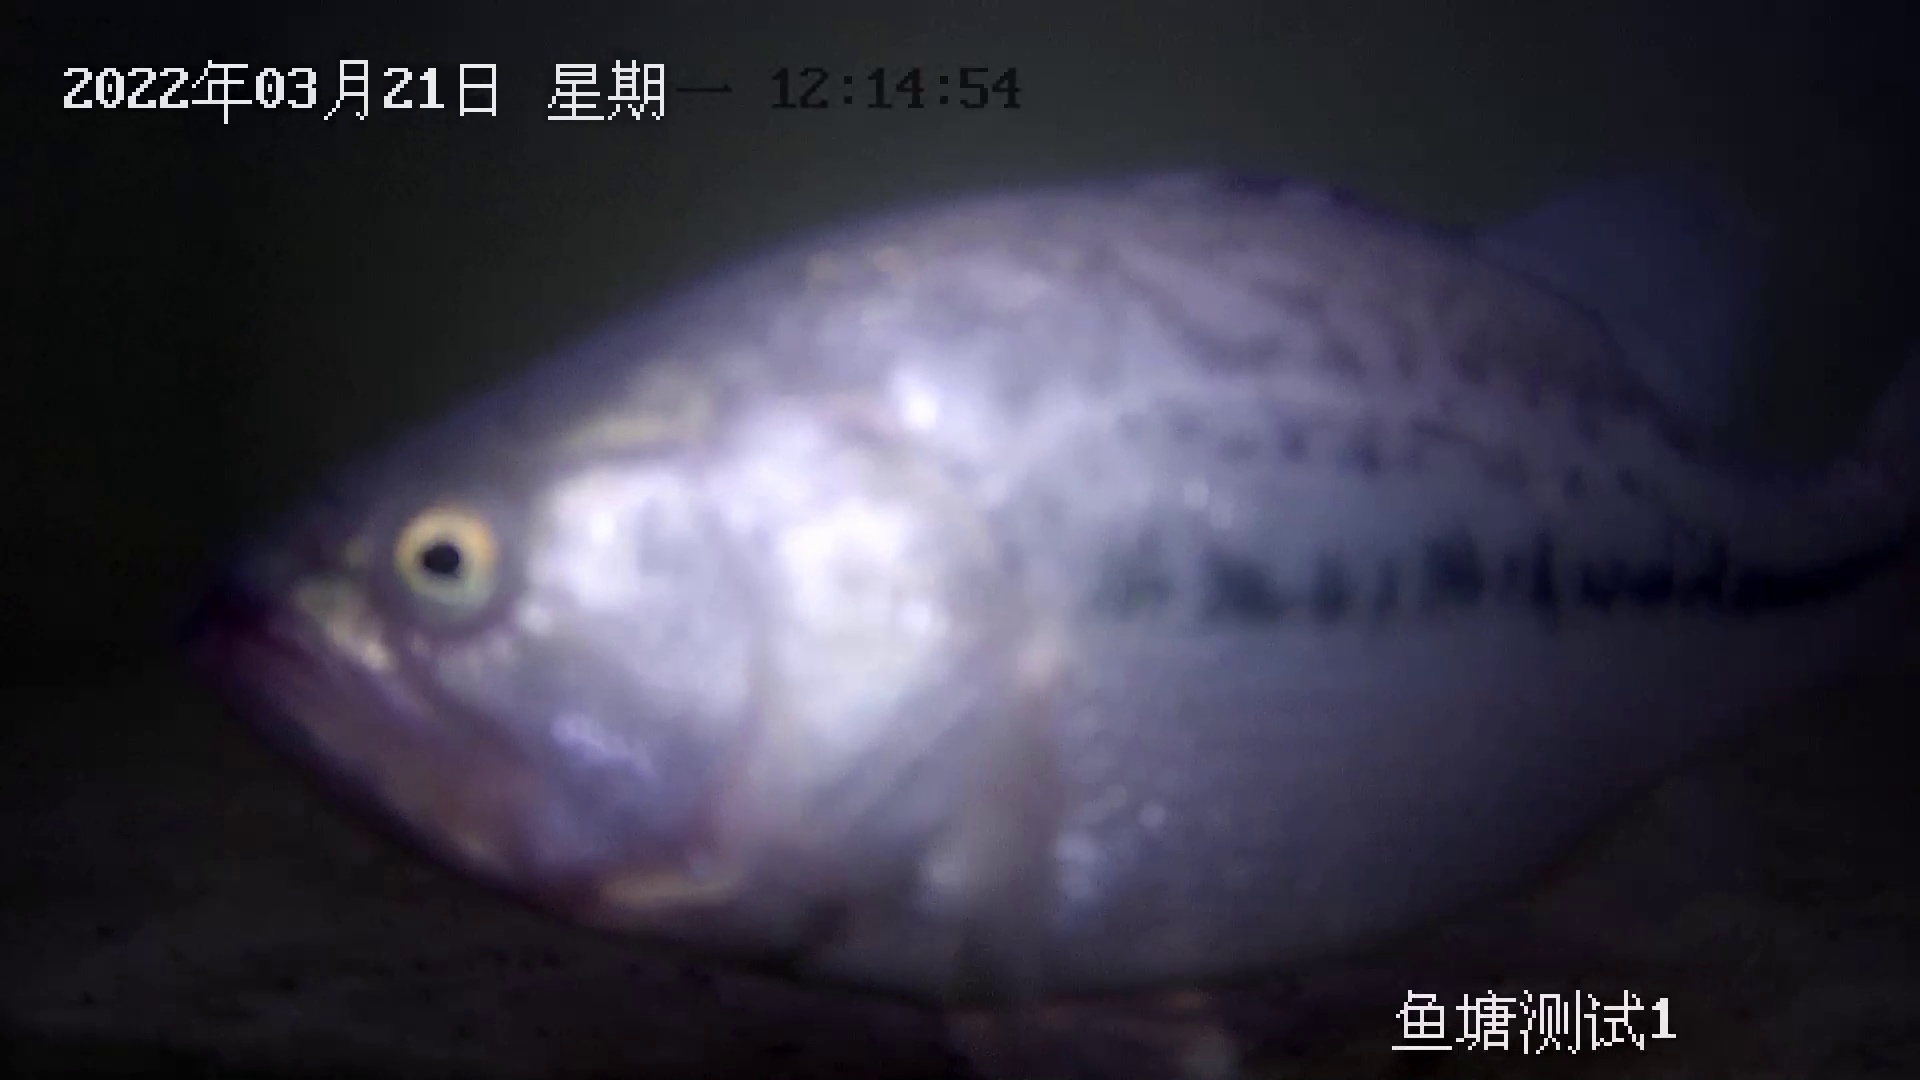fry: (194, 175, 1920, 1077)
